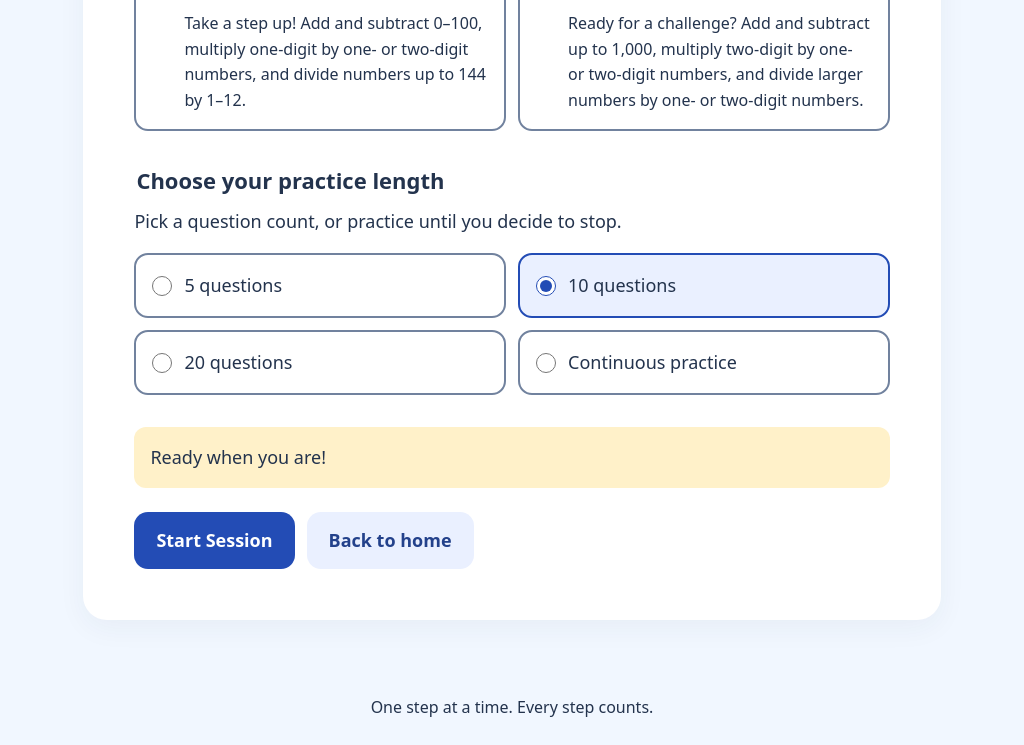
Test case: friendly recovery actions › handles a failure to create an attempt without losing earlier results or locking the card
(page scrolled)
Click the button "Start Session" at (214, 540), box [134, 512, 295, 569]
(page scrolled)
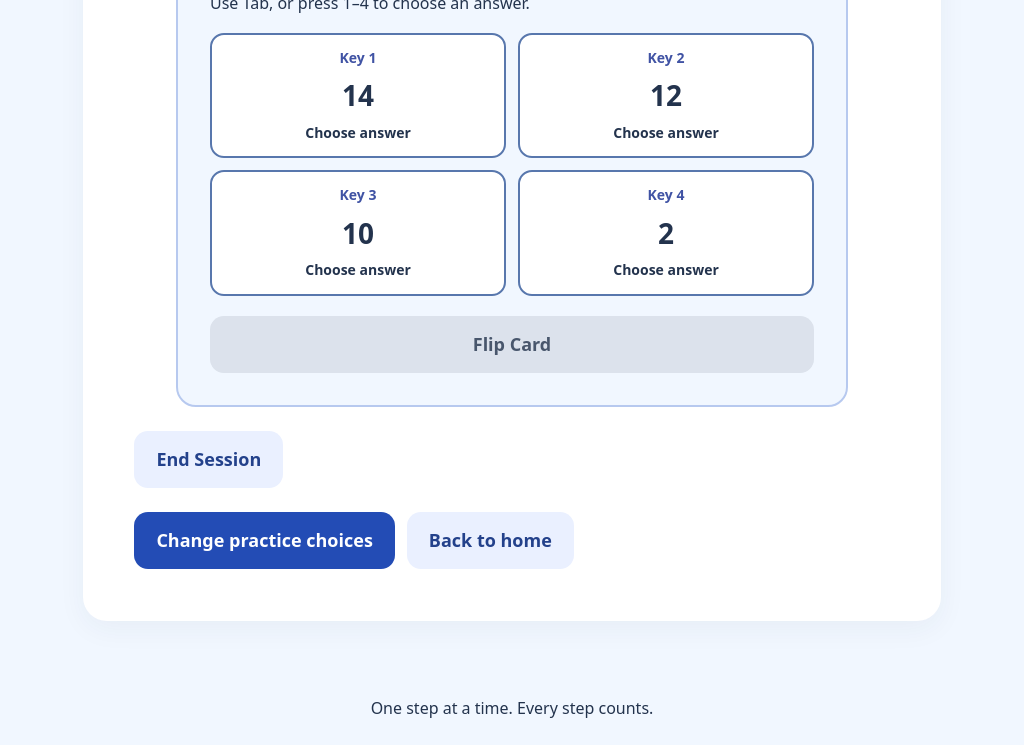
Click the button "Answer " at (358, 96), box [210, 33, 506, 158]
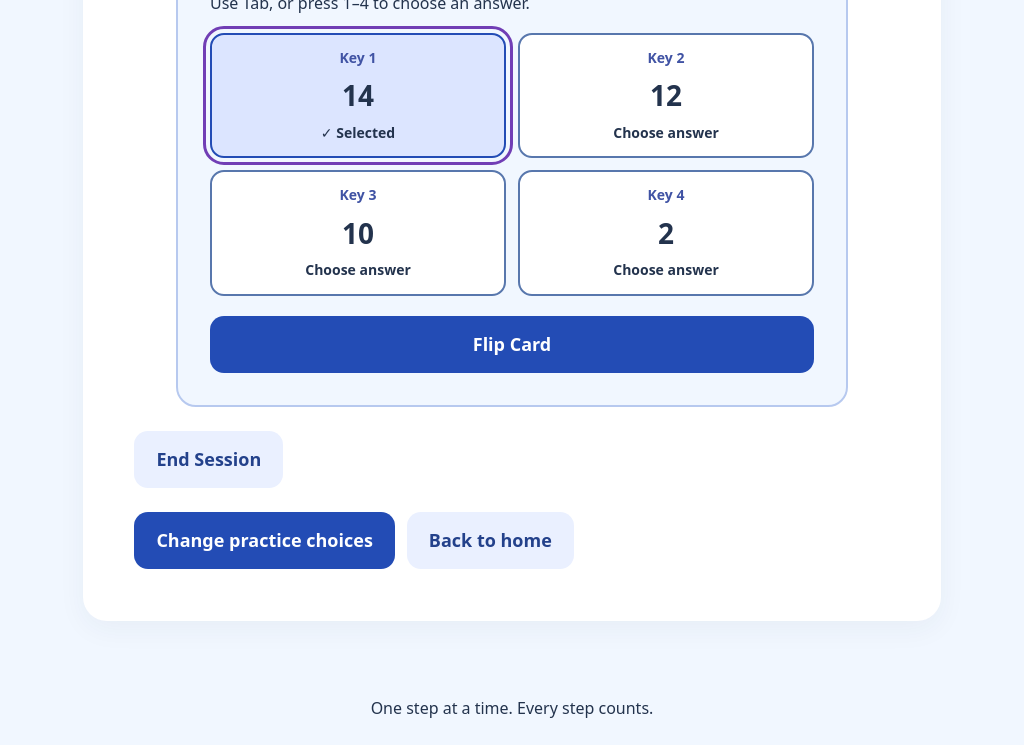
Click the button "Flip Card" at (512, 344), box [210, 316, 814, 373]
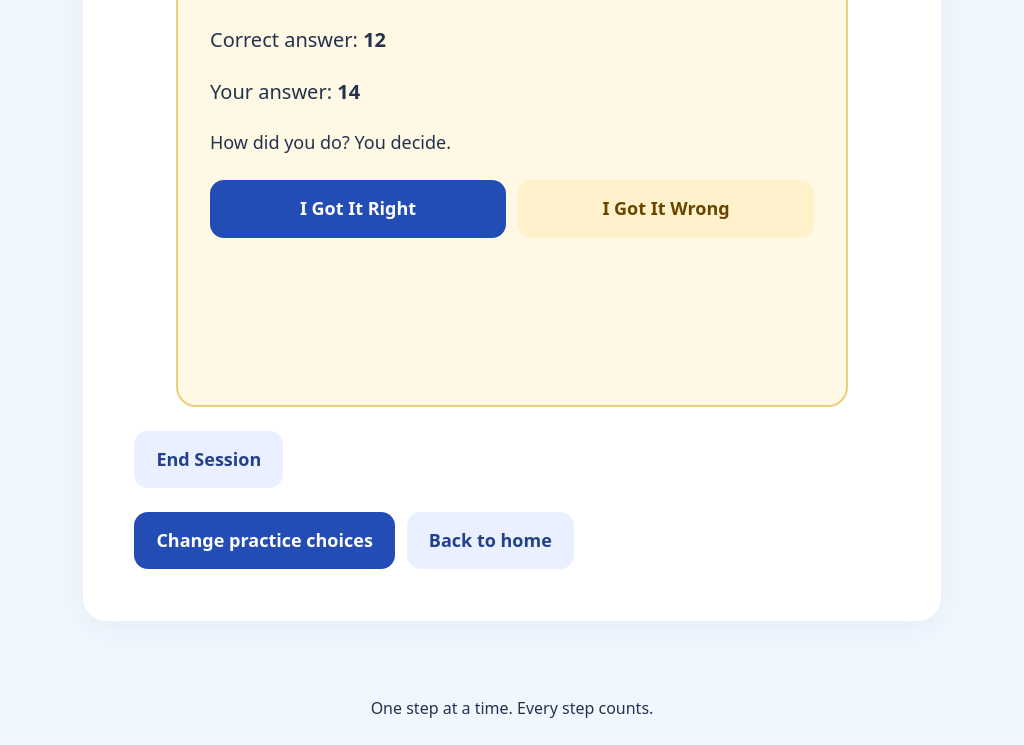
Click the button "I Got It Right" at (358, 209), box [210, 180, 506, 238]
(page scrolled)
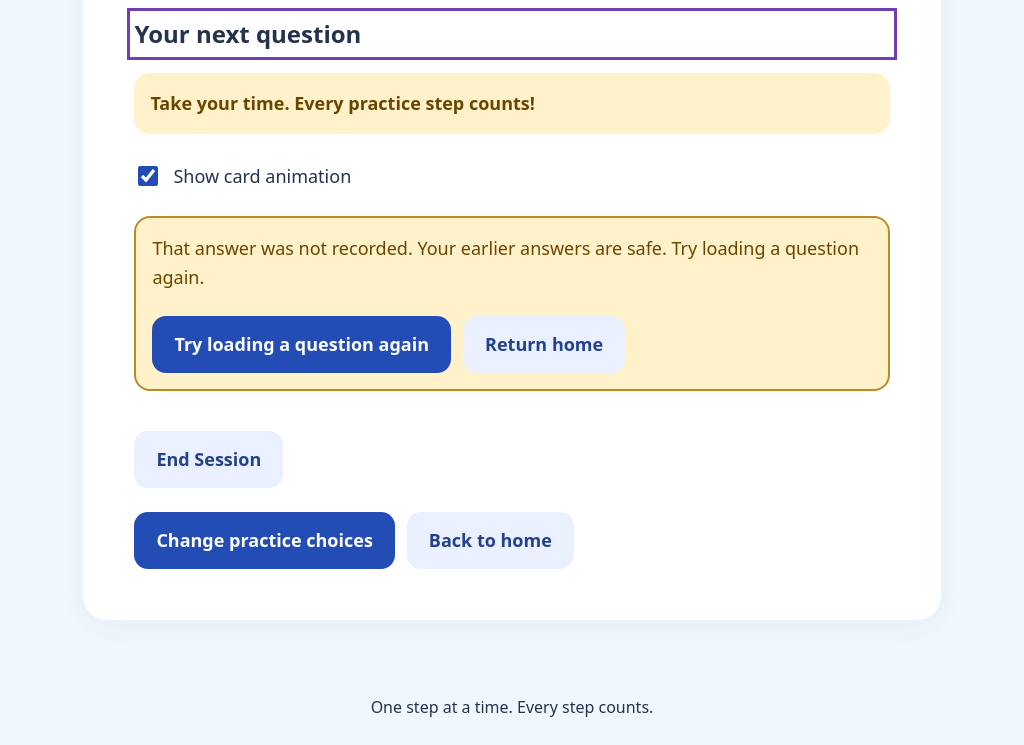
Now the 2nd message shows "answer was not recorded", box [152, 236, 859, 289]
Click the button "Try loading a question again" at (302, 344), box [152, 316, 451, 373]
(page scrolled)
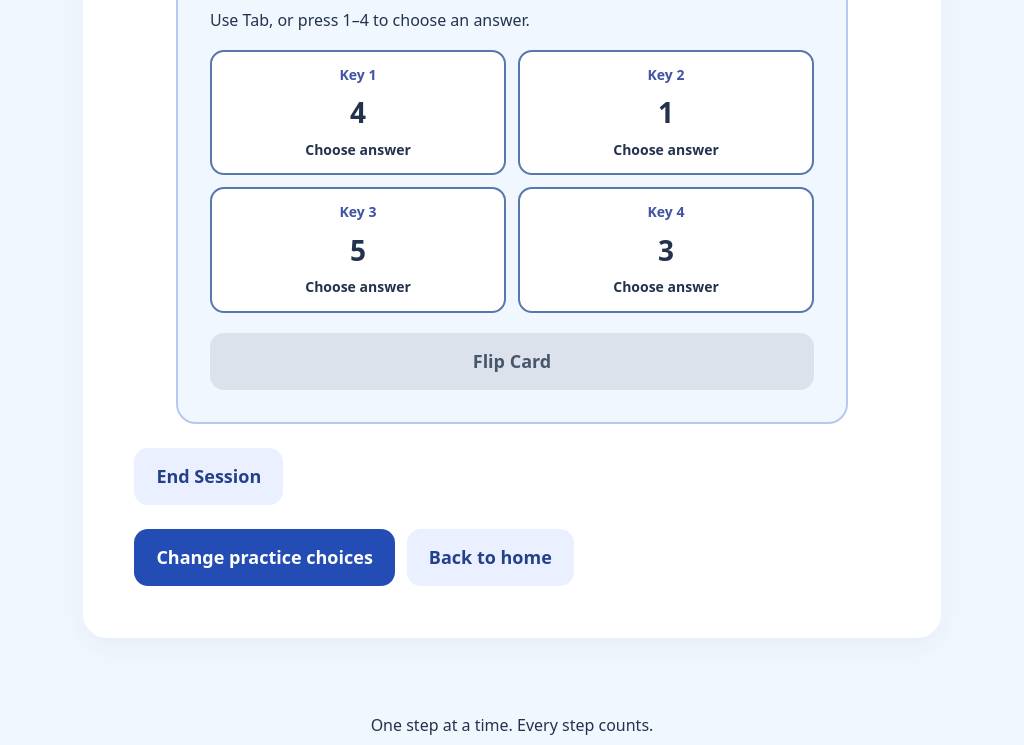
Now the button "Flip Card" is disabled, box [210, 333, 814, 390]
